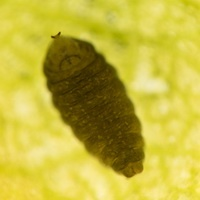insect: (44, 33, 143, 176), (51, 32, 60, 38)
